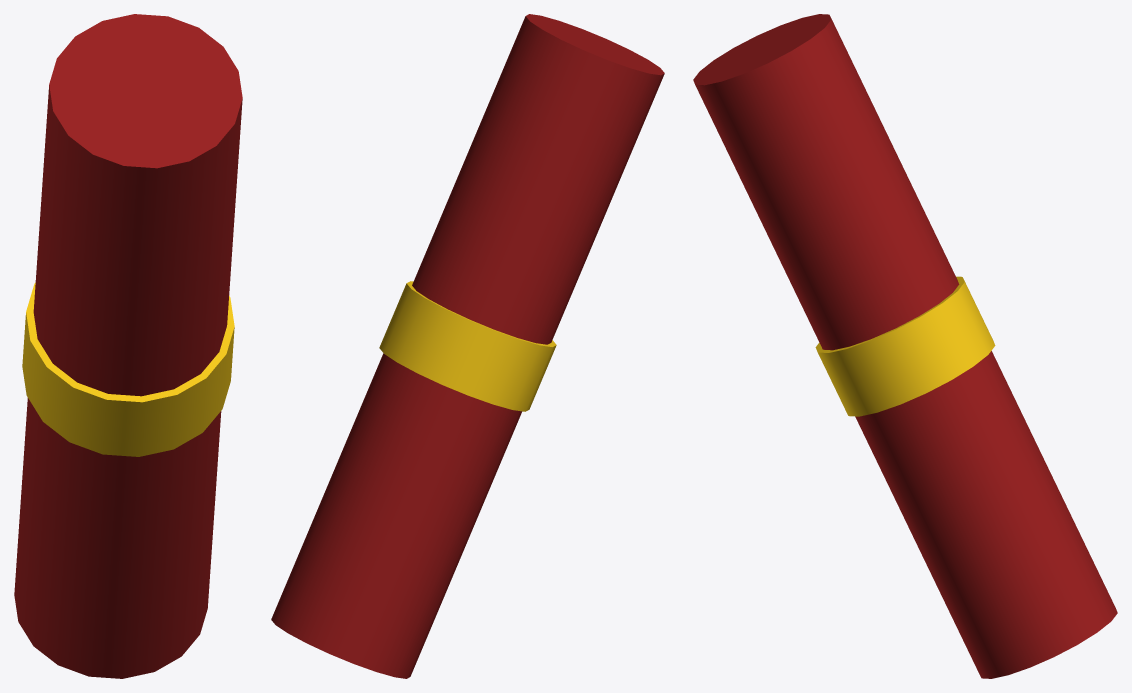
Rendered from scroll.glb.
The picture shows the model from 3 angles, left to right: view 1: azimuth 30°, elevation 25°; view 2: azimuth 150°, elevation 25°; view 3: azimuth 270°, elevation 25°; orthographic projection. The views are drawn at different scales.
Visible parts, largest first — view 1: scroll_paper, scroll_band; view 2: scroll_paper, scroll_band; view 3: scroll_paper, scroll_band.
Part boxes in pixels (left/top/right/bottom): scroll_paper: left=14, top=14, right=242, bottom=678; scroll_band: left=22, top=282, right=234, bottom=456; scroll_paper: left=271, top=14, right=664, bottom=678; scroll_band: left=379, top=281, right=556, bottom=411; scroll_paper: left=693, top=14, right=1117, bottom=678; scroll_band: left=815, top=276, right=995, bottom=416.
Size of the model in its own units: 0.1174 by 0.2772 by 0.177.
